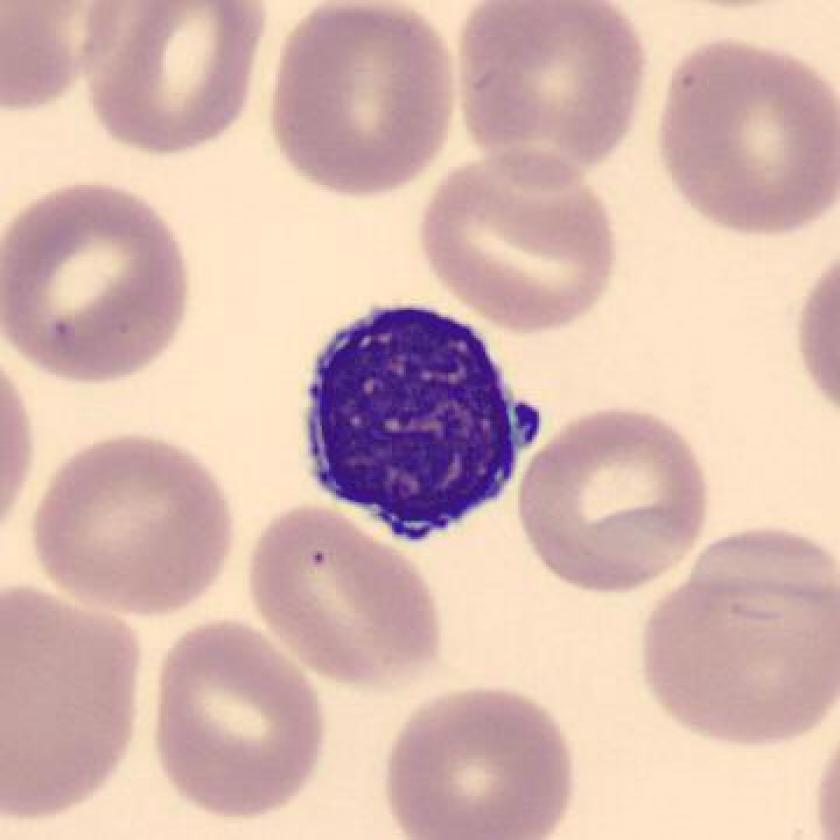lymphocyte: (288, 297, 552, 568)
